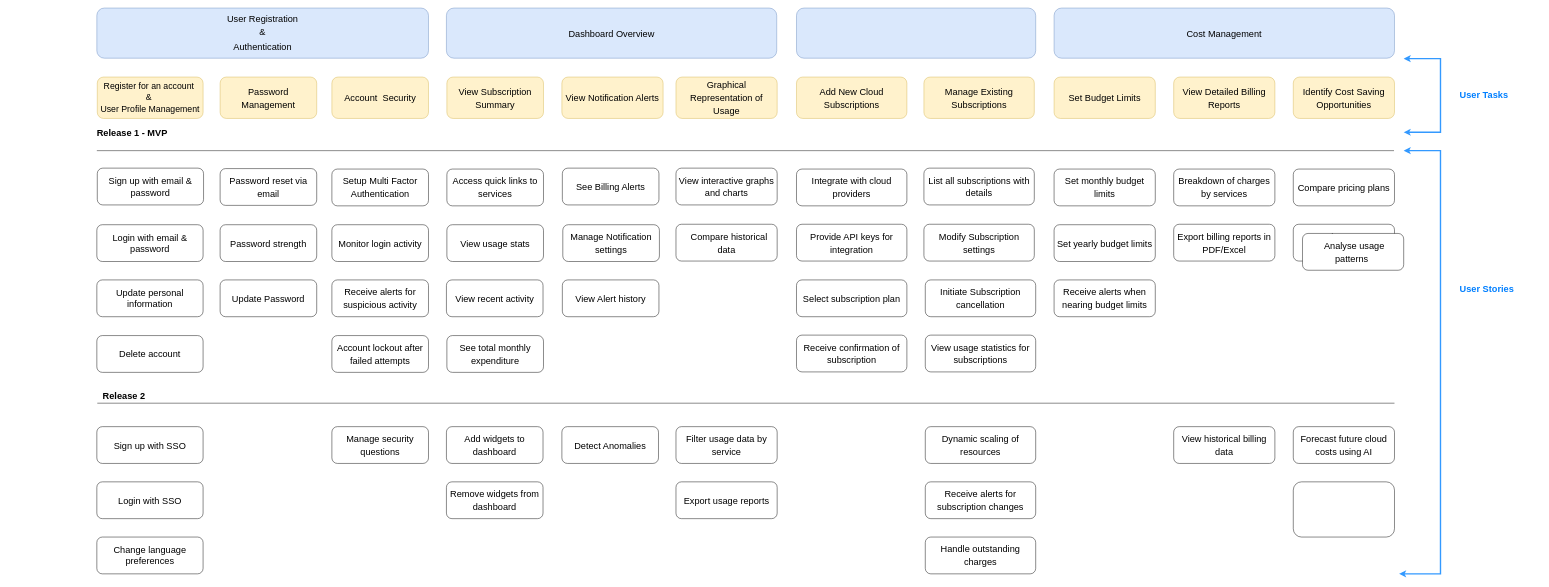
This 1549x587 diagram has some shape labels left out. The shapes that lost their labels are listed below. From the top down, each one's centre as x and y in pixels, then its label:
[916,33]: Cloud Subscription Management
[1343,509]: Train Models to provide cost saving recommendations
